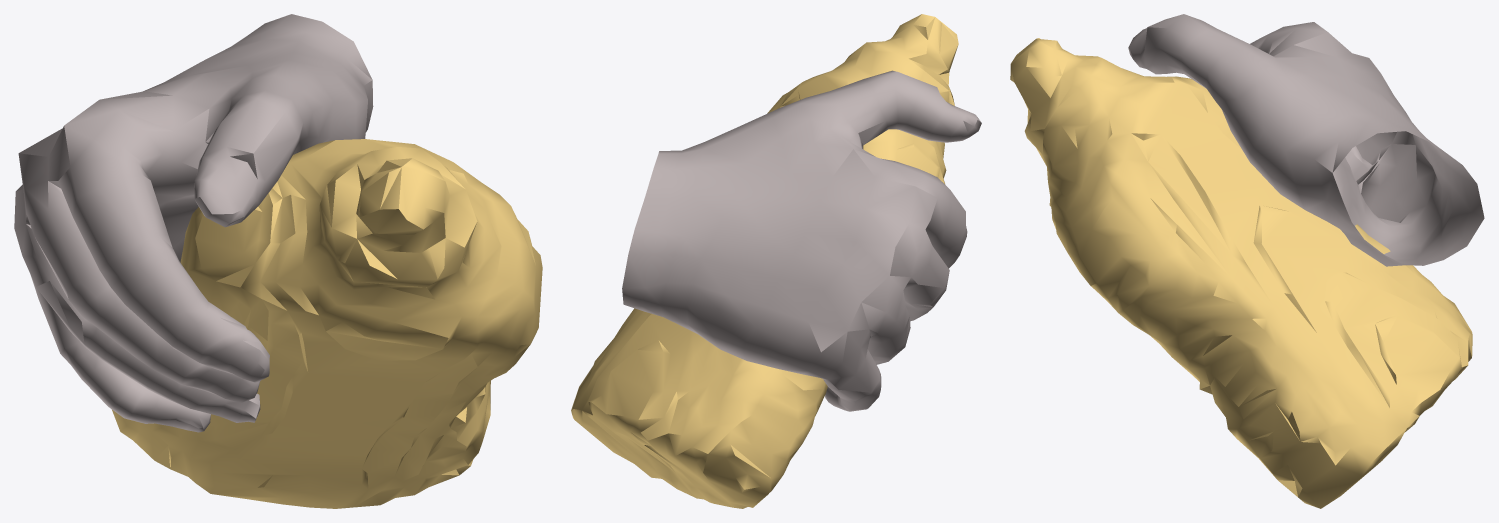
The model's file is mocap_power_frame.glb.
The picture shows the model from 3 angles, left to right: view 1: azimuth 30°, elevation 25°; view 2: azimuth 150°, elevation 25°; view 3: azimuth 270°, elevation 25°; orthographic projection. The views are drawn at different scales.
Parts seen in each view (by area): view 1: mesh0; view 2: mesh0; view 3: mesh0.
Boxes of the visible parts, box(x1,y1,x2,y2) form: mesh0: box(14, 14, 542, 508); mesh0: box(571, 14, 981, 508); mesh0: box(1010, 14, 1484, 508).
Bounding box in the file's own units: 0.1449 × 0.1608 × 0.1711.
